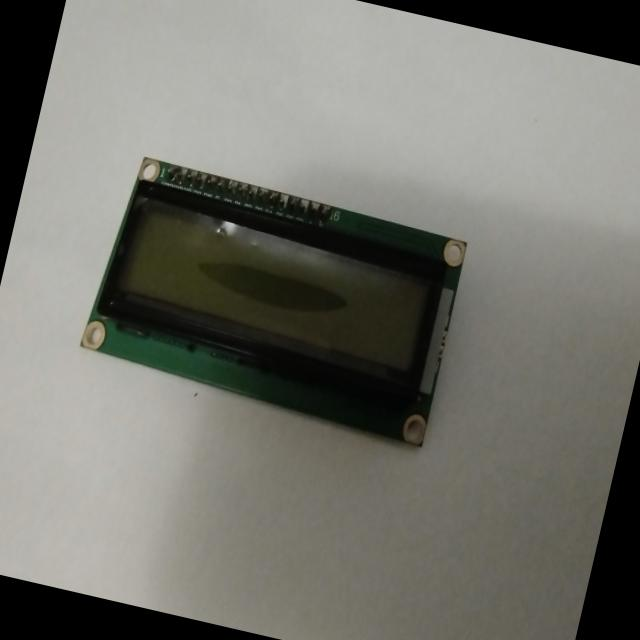lcd: (73, 148, 474, 449)
